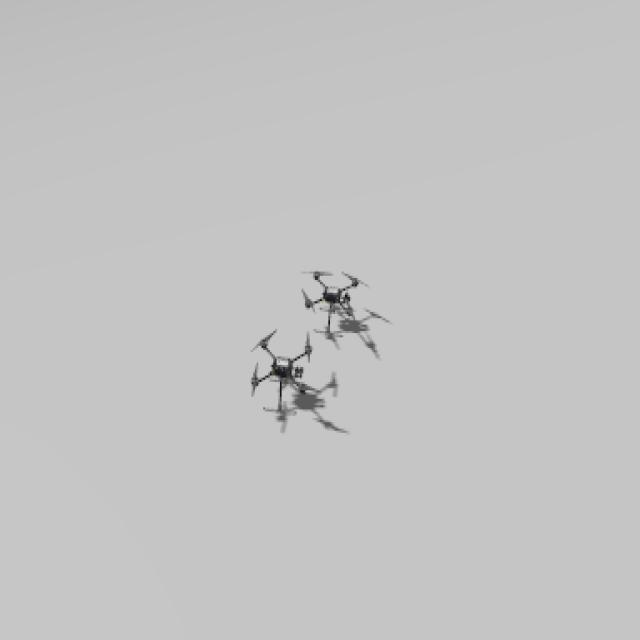drone: (245, 326, 320, 419), (301, 264, 368, 328)
